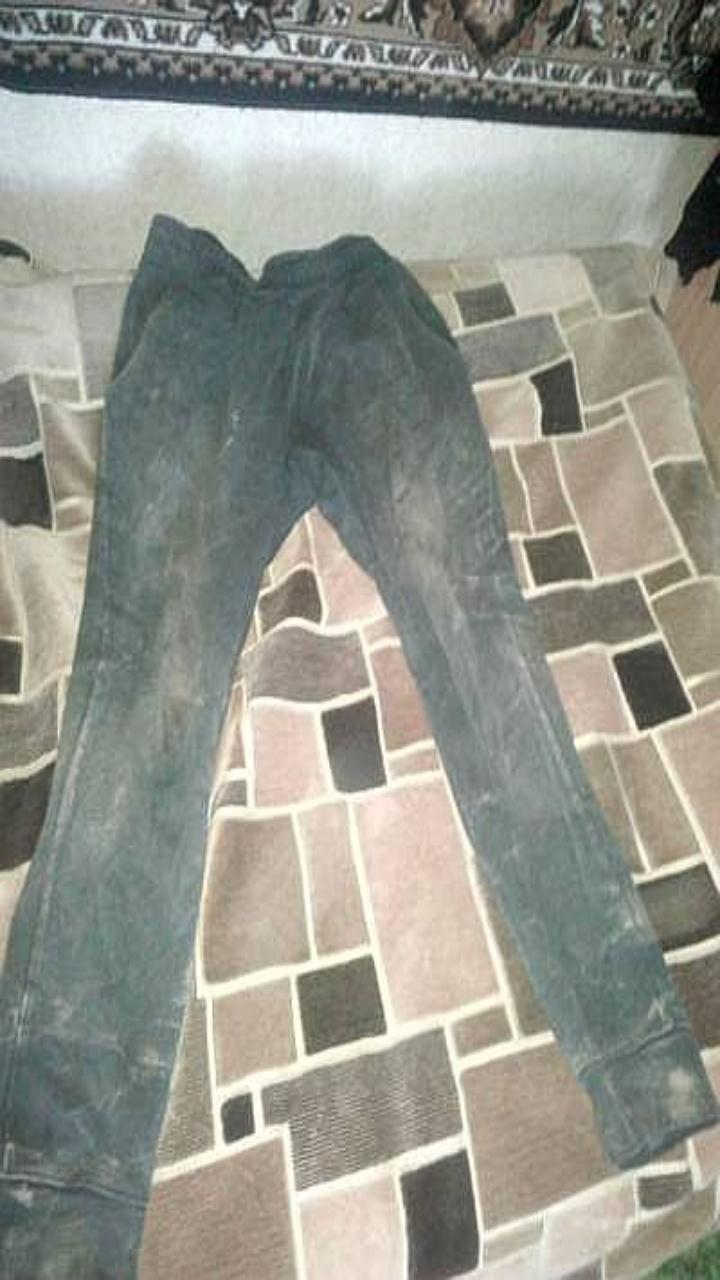Jeans: (0, 217, 719, 1279)
